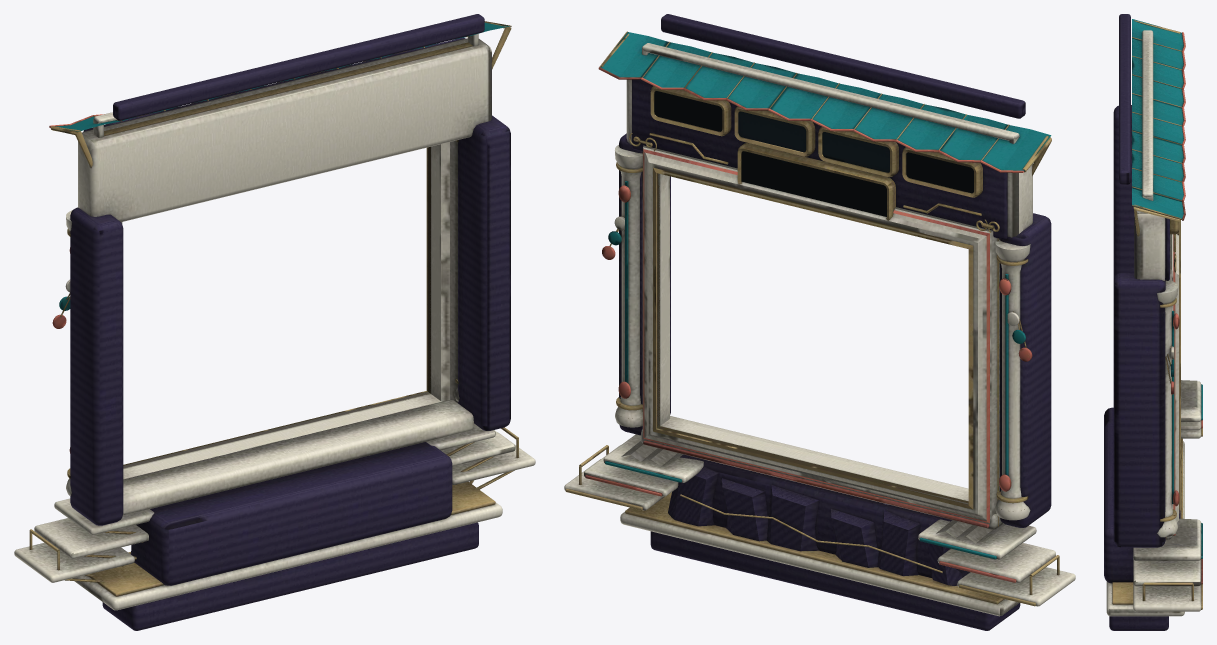
The picture shows the model from 3 angles, left to right: view 1: azimuth 30°, elevation 25°; view 2: azimuth 150°, elevation 25°; view 3: azimuth 270°, elevation 25°; orthographic projection. The views are drawn at different scales.
Parts seen in each view (by area): view 1: Ivory_glazed_ceramic, Violet_ceramic_cliff, Brushed_brass, Woven_teal_cloth; view 2: Ivory_glazed_ceramic, Violet_ceramic_cliff, Brushed_brass, Woven_teal_cloth, Even_dark_display, Coral_glaze; view 3: Violet_ceramic_cliff, Ivory_glazed_ceramic, Woven_teal_cloth, Brushed_brass, Coral_glaze.
Boxes of the visible parts, left/top/right/bottom form: Ivory_glazed_ceramic: left=14, top=33, right=535, bottom=610; Violet_ceramic_cliff: left=70, top=14, right=510, bottom=630; Brushed_brass: left=29, top=21, right=518, bottom=596; Woven_teal_cloth: left=55, top=22, right=509, bottom=310; Ivory_glazed_ceramic: left=564, top=43, right=1075, bottom=616; Violet_ceramic_cliff: left=619, top=14, right=1051, bottom=630; Brushed_brass: left=565, top=31, right=1059, bottom=606; Woven_teal_cloth: left=600, top=32, right=1051, bottom=559; Even_dark_display: left=654, top=91, right=973, bottom=216; Coral_glaze: left=585, top=67, right=1032, bottom=582; Violet_ceramic_cliff: left=1104, top=14, right=1180, bottom=630; Ivory_glazed_ceramic: left=1106, top=30, right=1201, bottom=616; Woven_teal_cloth: left=1132, top=19, right=1202, bottom=558; Brushed_brass: left=1112, top=20, right=1202, bottom=609; Coral_glaze: left=1171, top=32, right=1202, bottom=584.
Bounding box in the file's own units: 10.44 × 10.8 × 2.08.
Materials: 6 (6 with a texture image).
